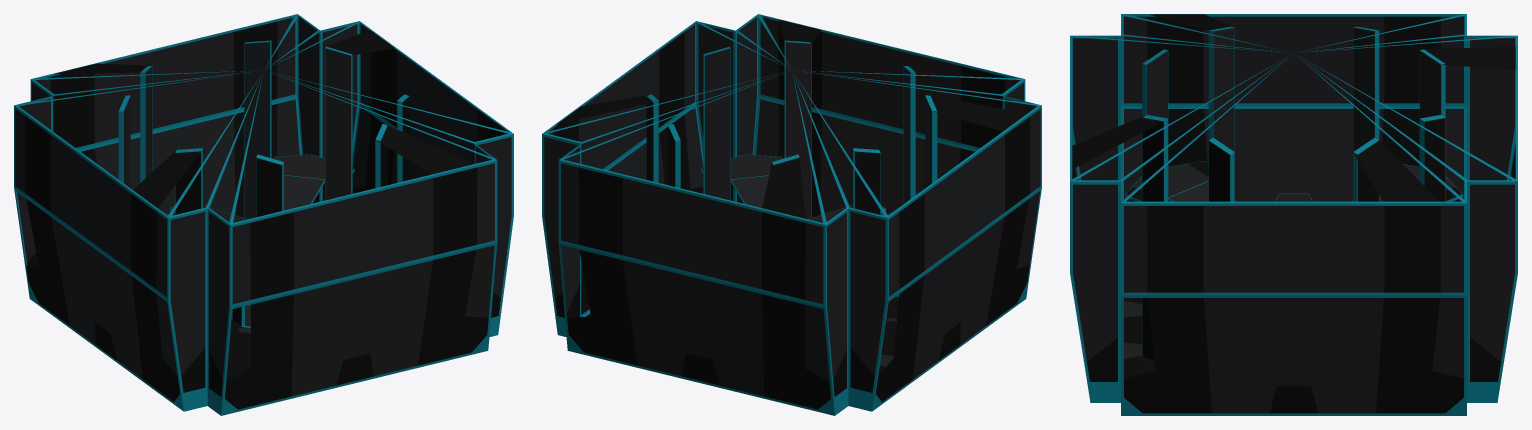
Rendered from cena.obj.
3 renders of one model, left to right at view 1: azimuth 30°, elevation 25°; view 2: azimuth 150°, elevation 25°; view 3: azimuth 270°, elevation 25°, orthographic. The views are drawn at different scales.
Visible parts, largest first — view 1: Mesh19 Group15 Model, Mesh18 Group14 Model, Mesh13 Group13 Model; view 2: Mesh19 Group15 Model, Mesh18 Group14 Model, Mesh13 Group13 Model; view 3: Mesh19 Group15 Model, Mesh18 Group14 Model, Mesh13 Group13 Model.
Boxes of the visible parts, x1,y1,x2,y2 form: Mesh19 Group15 Model: (14, 14, 513, 307); Mesh18 Group14 Model: (14, 96, 513, 415); Mesh13 Group13 Model: (118, 40, 409, 326); Mesh19 Group15 Model: (542, 14, 1041, 307); Mesh18 Group14 Model: (542, 96, 1041, 415); Mesh13 Group13 Model: (646, 40, 937, 366); Mesh19 Group15 Model: (1070, 14, 1517, 295); Mesh18 Group14 Model: (1070, 106, 1517, 415); Mesh13 Group13 Model: (1125, 26, 1462, 361).
Size of the model in its own units: 22 by 15.15 by 22.
